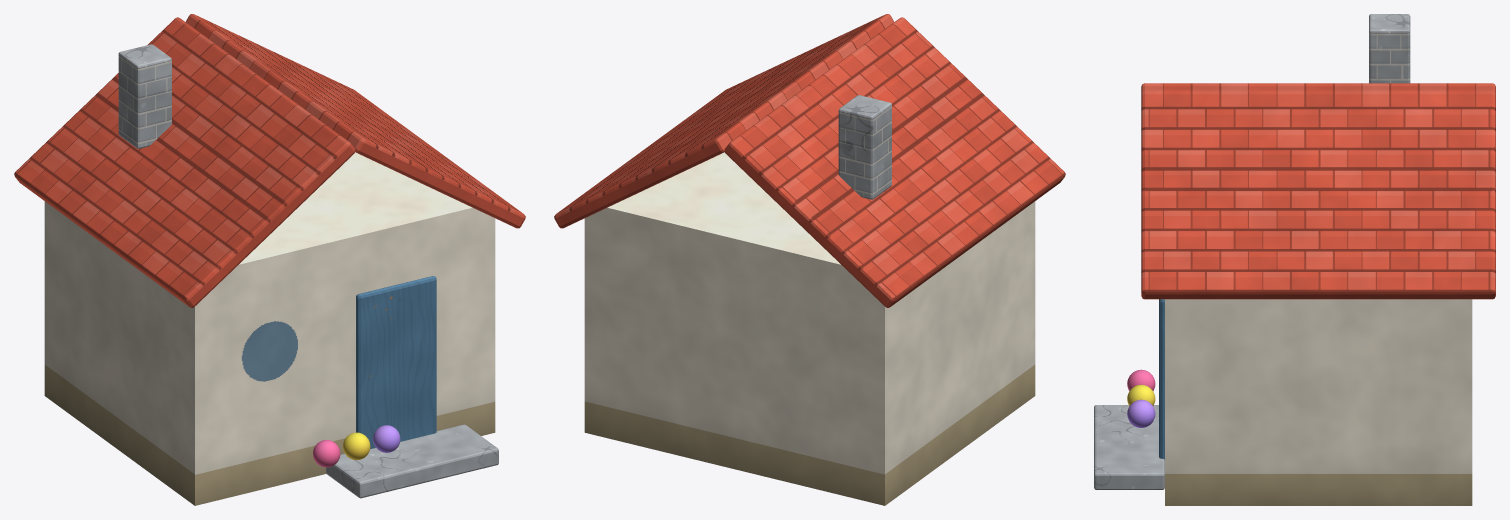
File: village_house.glb
The picture shows the model from 3 angles, left to right: view 1: azimuth 30°, elevation 25°; view 2: azimuth 150°, elevation 25°; view 3: azimuth 270°, elevation 25°; orthographic projection. The views are drawn at different scales.
Parts seen in each view (by area): view 1: House; view 2: House; view 3: House.
Boxes of the visible parts, x1,y1,x2,y2 form: House: [14, 14, 525, 505]; House: [554, 14, 1065, 505]; House: [1094, 14, 1495, 505].
Size of the model in its own units: 3.41 by 3.4 by 3.4.
Materials: 1 (1 with a texture image).
